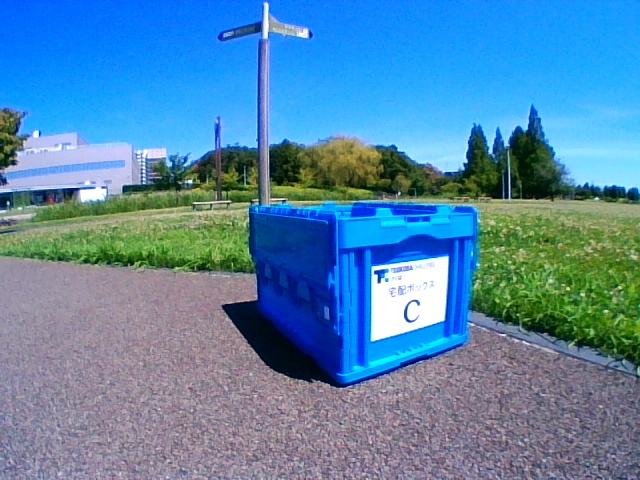blue_box: (309, 205, 468, 344)
tag_c: (382, 270, 432, 325)
